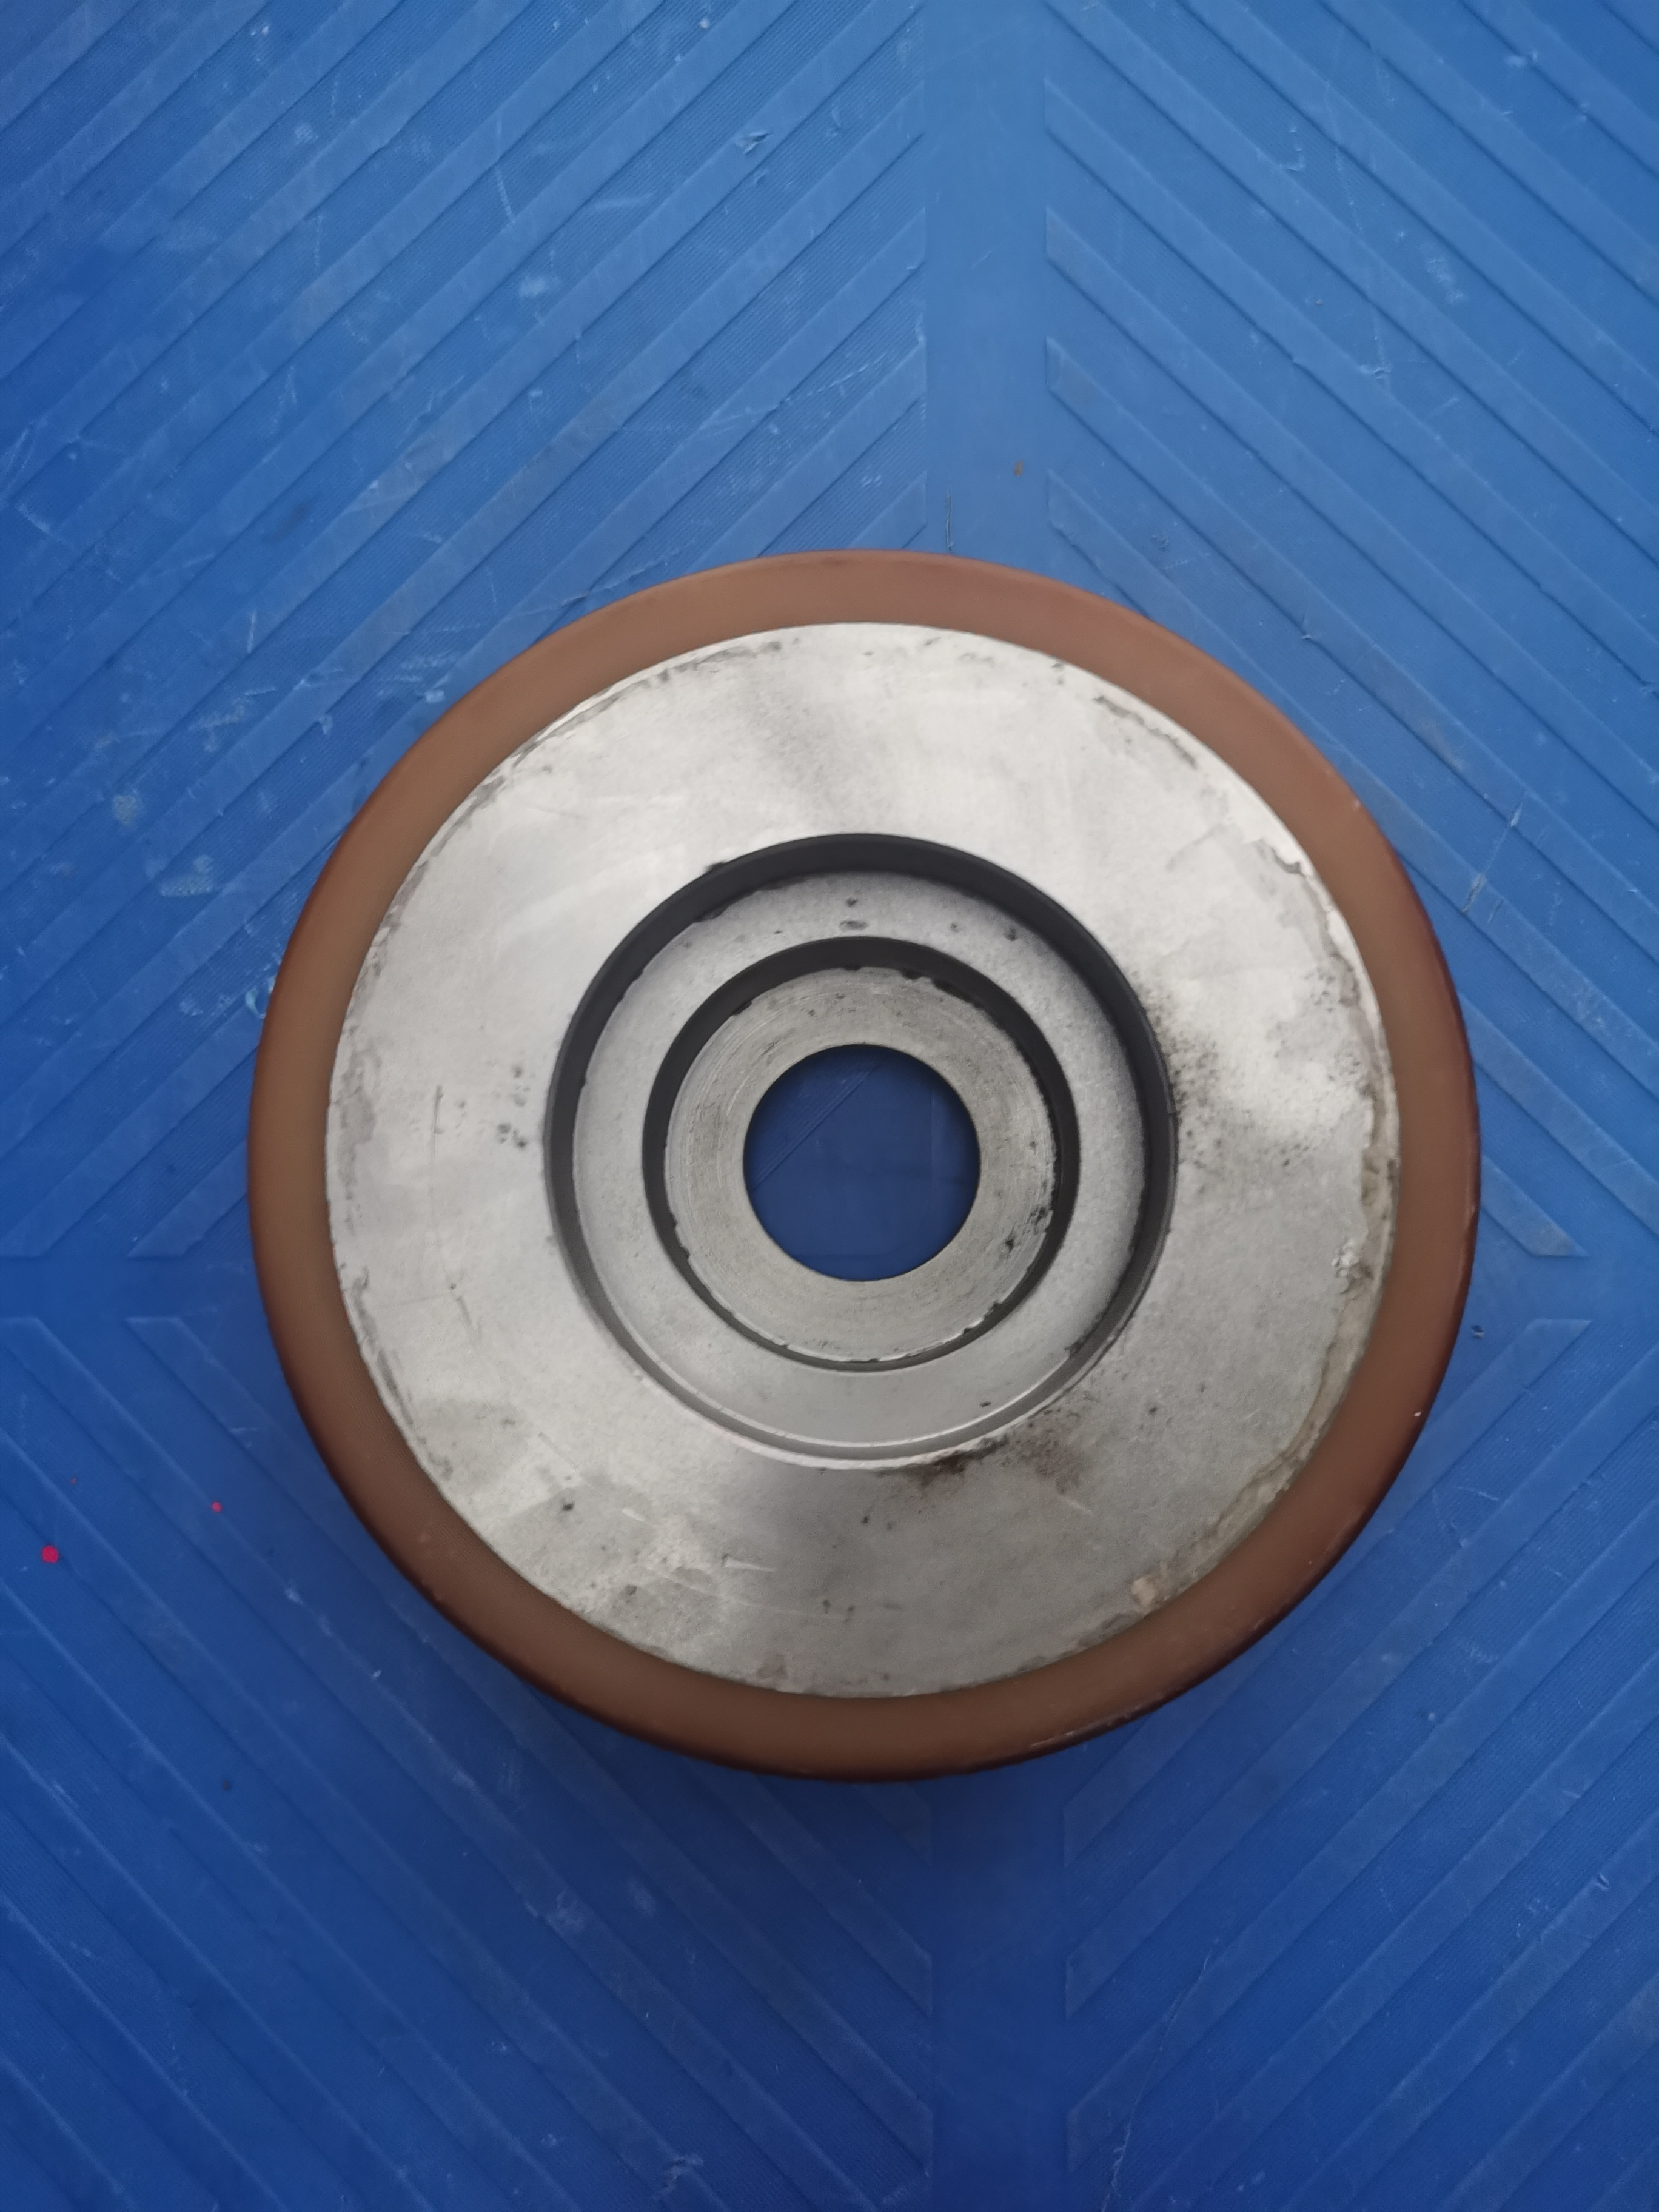good_wheel: (220, 496, 1493, 1820)
